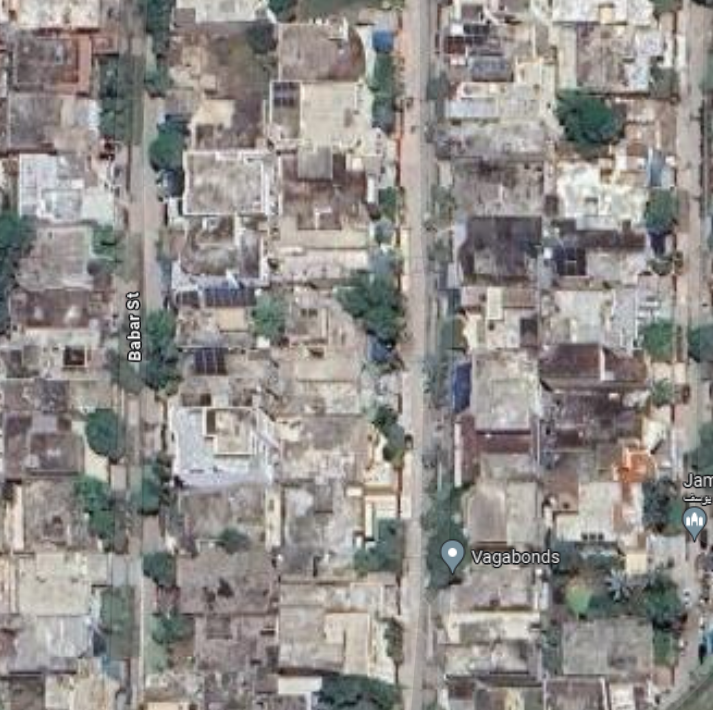solar-panel: (195, 290, 258, 311), (552, 247, 585, 276), (198, 345, 228, 372), (274, 79, 300, 108), (460, 22, 489, 44), (443, 35, 469, 50)
